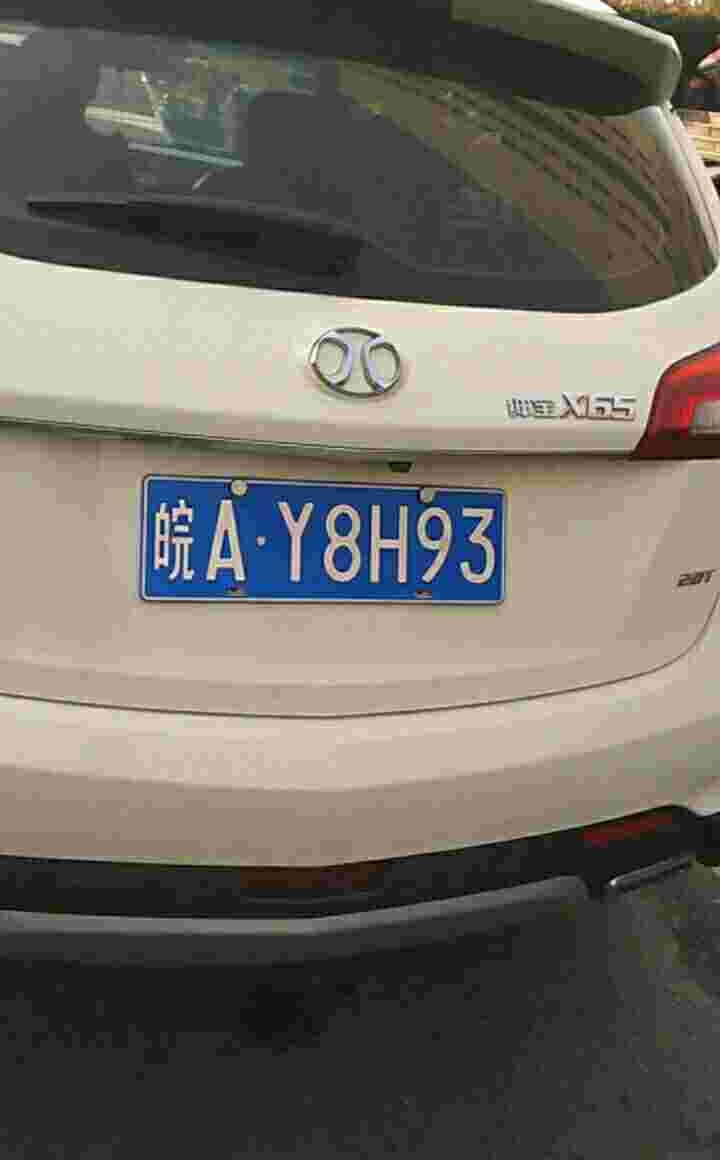license_plate: (164, 475, 518, 599)
